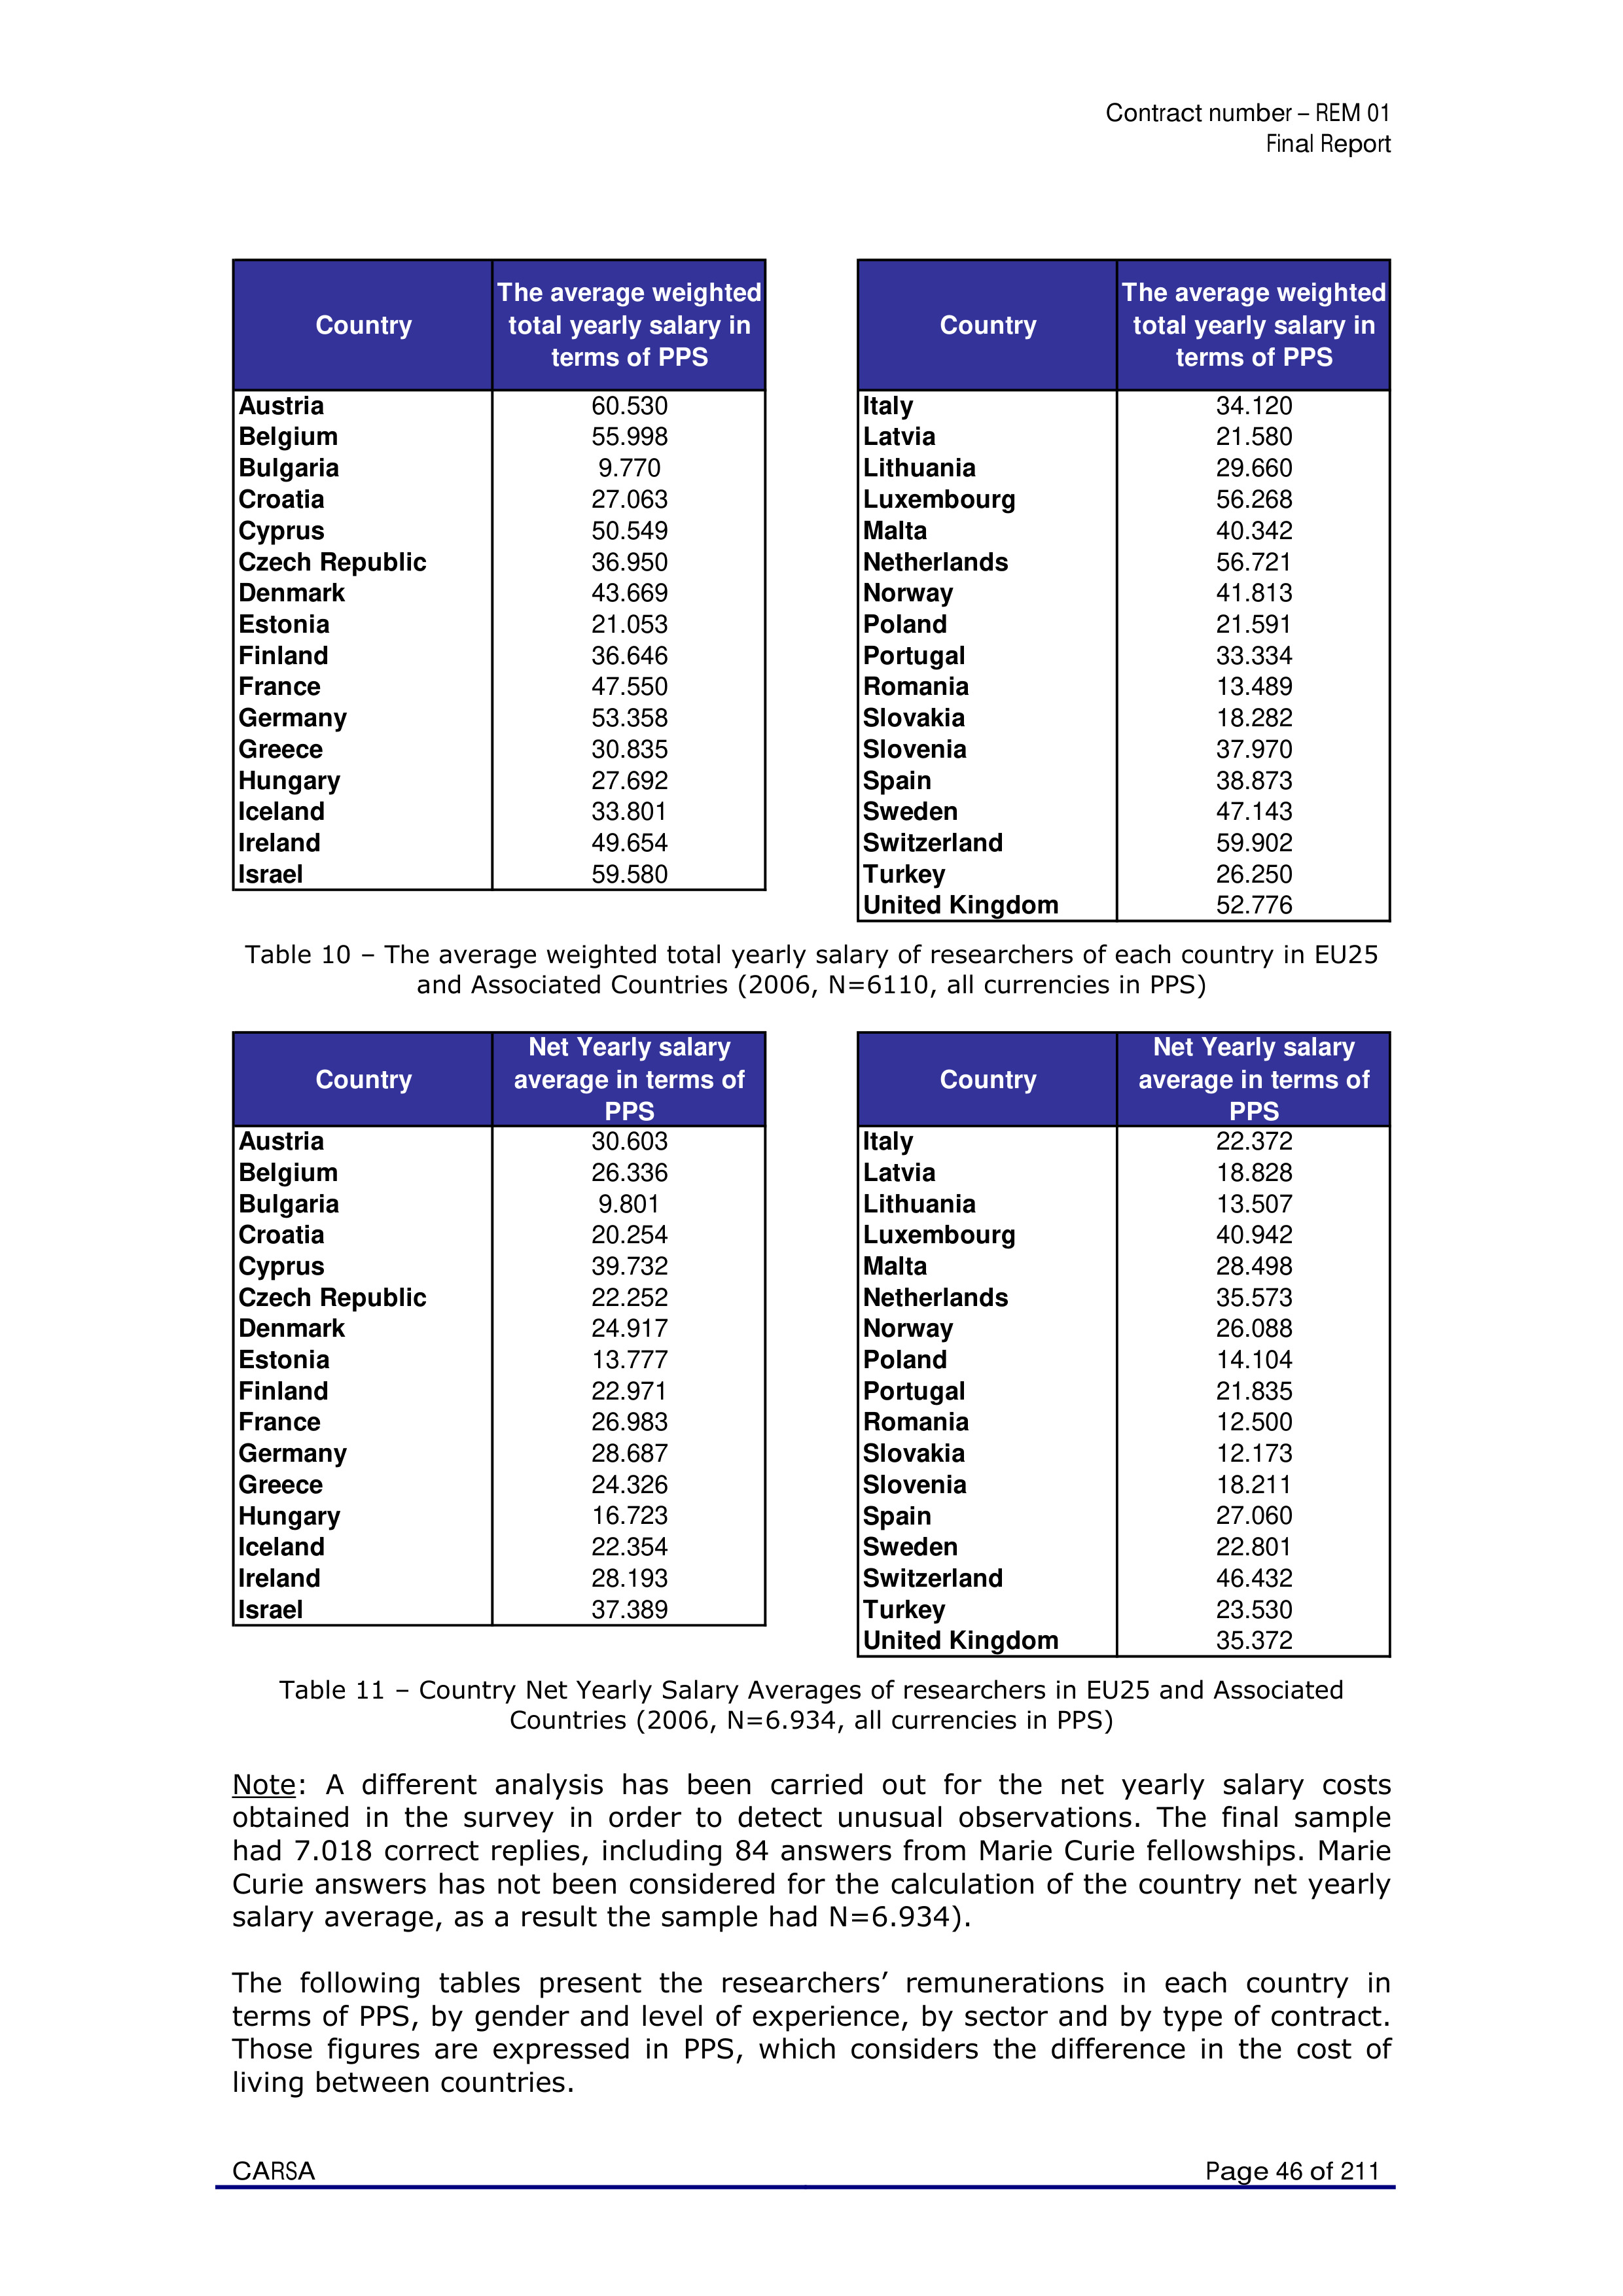table: (862, 274, 1386, 922), (239, 274, 762, 890), (862, 1029, 1370, 1657), (239, 1029, 745, 1625)
